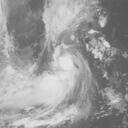cyclone: (51, 44, 89, 93)
